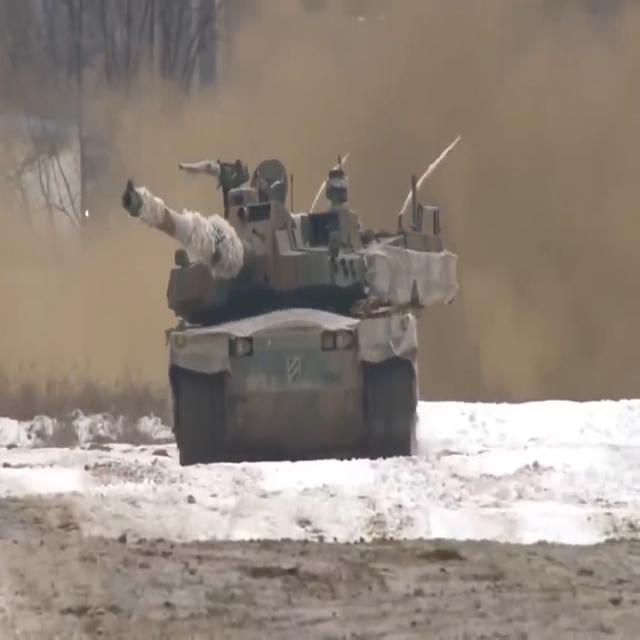korea tank: (120, 158, 460, 468)
